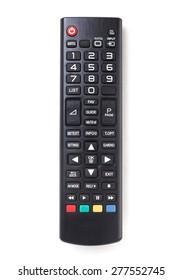Remote control: (58, 16, 127, 247)
